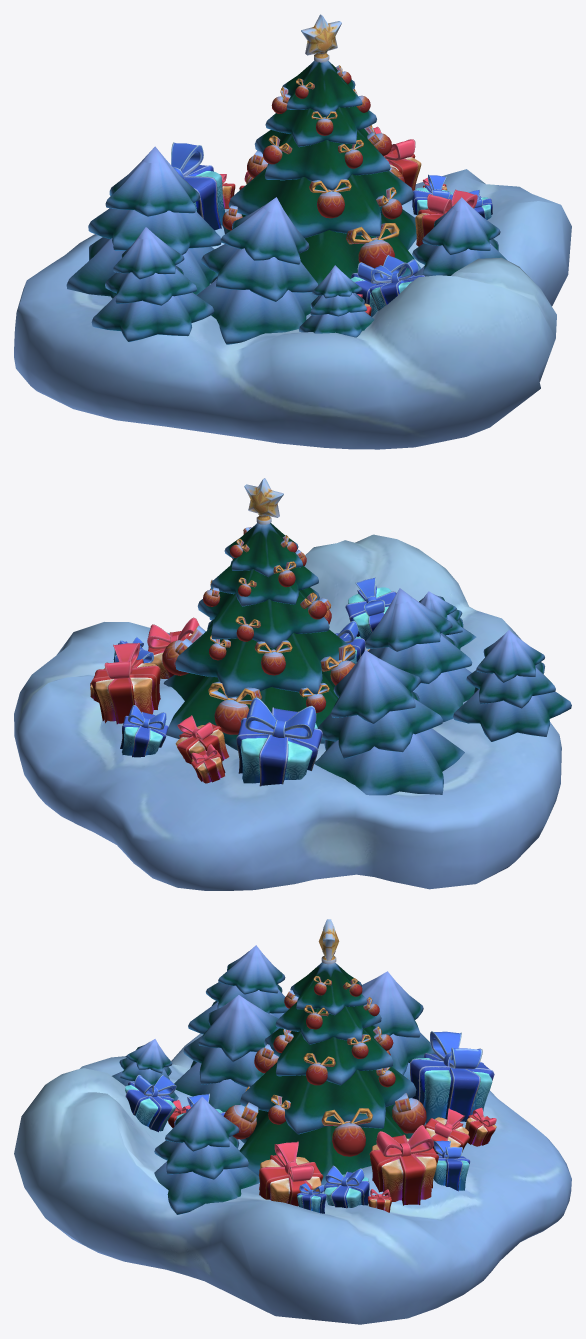
File: animated_snowglobe.final.glb
The picture shows the model from 3 angles, top to bottom: view 1: azimuth 30°, elevation 25°; view 2: azimuth 150°, elevation 25°; view 3: azimuth 270°, elevation 25°; orthographic projection. The views are drawn at different scales.
Parts seen in each view (by area): view 1: Object_4, Object_6, Object_3, Object_2, Object_5, Object_8, Object_7; view 2: Object_4, Object_6, Object_3, Object_5, Object_8, Object_2, Object_7; view 3: Object_4, Object_6, Object_3, Object_5, Object_8, Object_2, Object_7.
Part boxes in pixels (box(x1,y1,x2,y2)): Object_4: box(14, 169, 571, 449); Object_6: box(66, 146, 507, 344); Object_3: box(217, 60, 421, 285); Object_2: box(222, 65, 404, 268); Object_5: box(171, 142, 492, 316); Object_8: box(219, 126, 477, 315); Object_7: box(301, 14, 341, 62); Object_4: box(14, 534, 561, 890); Object_6: box(209, 588, 571, 795); Object_3: box(163, 523, 355, 750); Object_5: box(113, 577, 396, 786); Object_8: box(90, 617, 370, 783); Object_2: box(162, 527, 355, 734); Object_7: box(244, 478, 283, 524); Object_4: box(14, 1033, 571, 1324); Object_6: box(112, 945, 435, 1214); Object_3: box(239, 962, 425, 1185); Object_5: box(125, 1031, 494, 1213); Object_8: box(168, 1100, 496, 1212); Object_2: box(223, 976, 426, 1156); Object_7: box(318, 919, 339, 964).
Size of the model in its own units: 88.72 by 53.19 by 87.76.
Materials: 7 (7 with a texture image).
